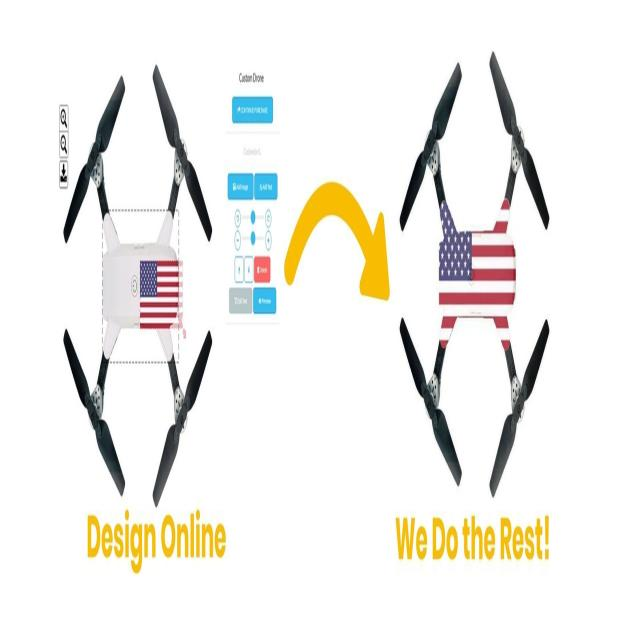drone: (389, 33, 566, 532), (48, 68, 223, 525)
